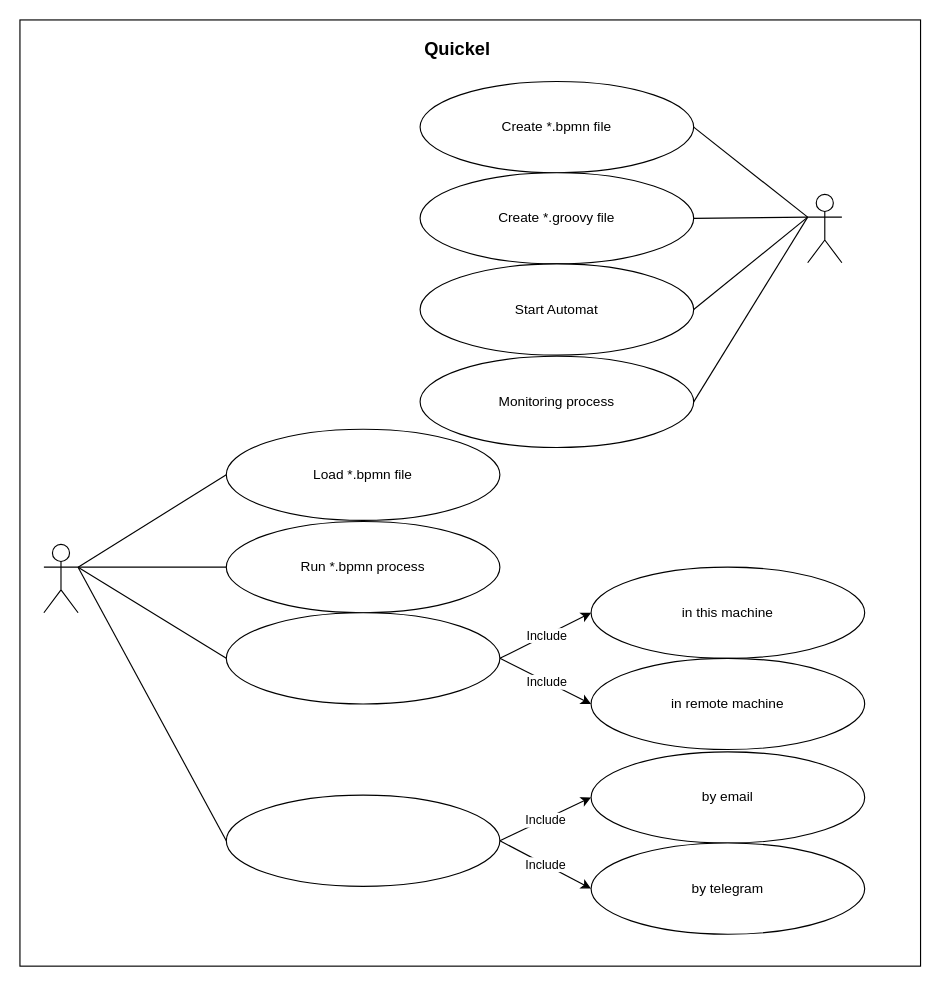
This 941x986 diagram has some shape labels left out. Here are the shapes that lost their labels. From the top down, the centre of each, then its label:
At pixel 824 228: "Administrator".
At pixel 60 578: "Automat".
At pixel 362 658: "Run *.groovy script from process".
At pixel 362 840: "Send text message".
